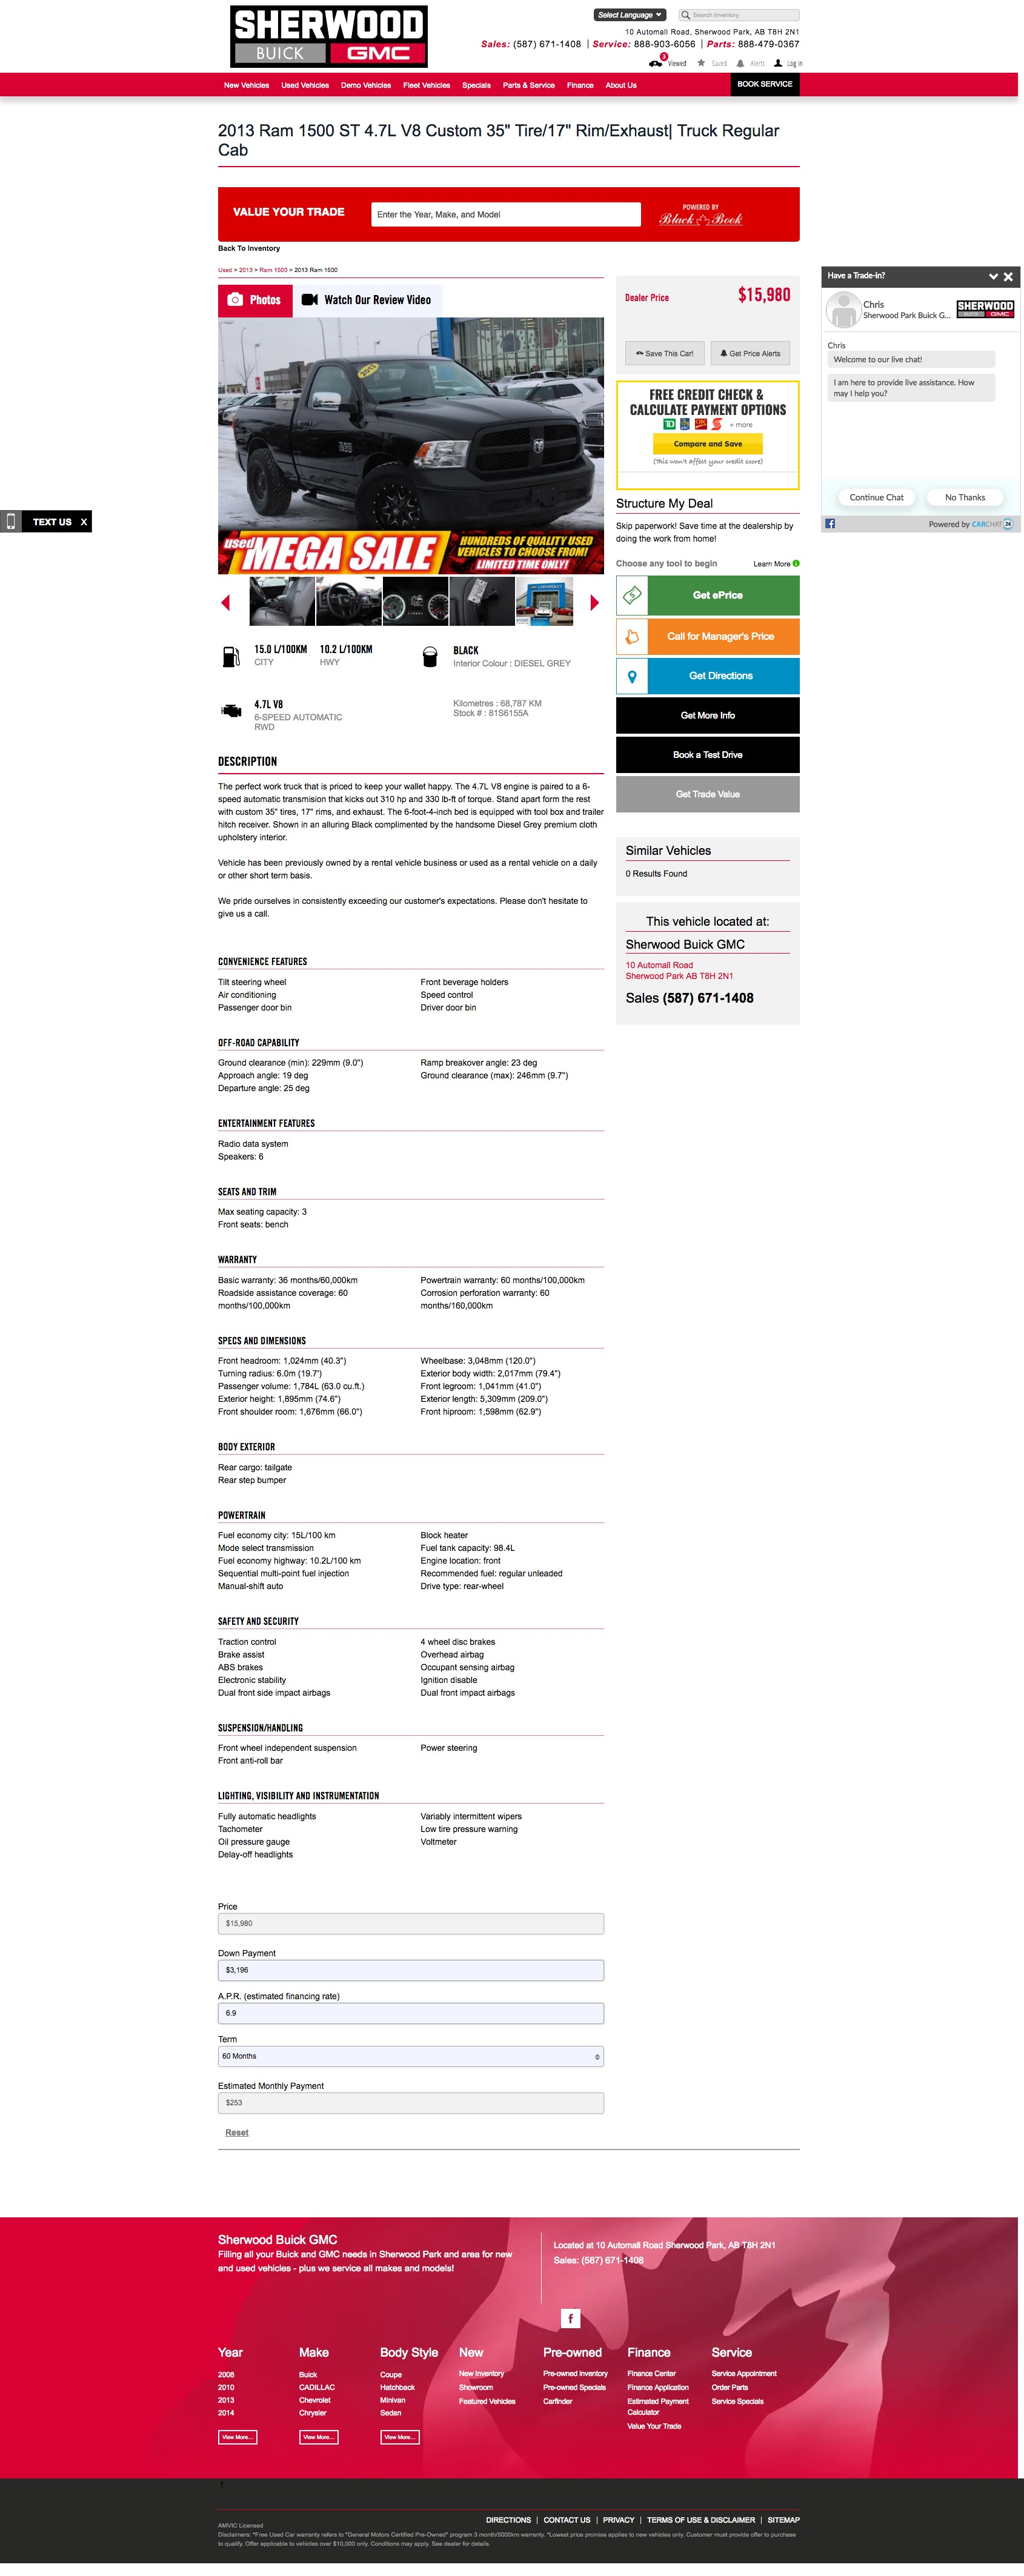car: (588, 593, 603, 613)
